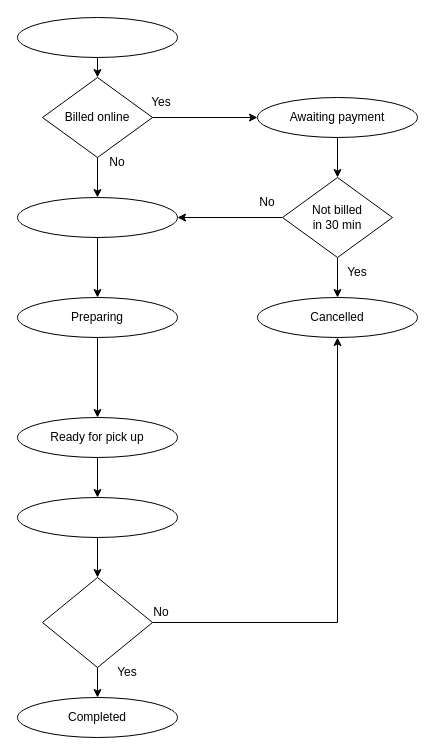
Some shapes in this 435 by 755 pixel diagram are drawn without their labels. The centre of each missing label's shape, as x and y in pixels:
"Accepted by client" goes at pixel 97 622.
"Confirmed" goes at pixel 97 217.
"In delivery" goes at pixel 97 517.
"Pending" goes at pixel 97 37.
